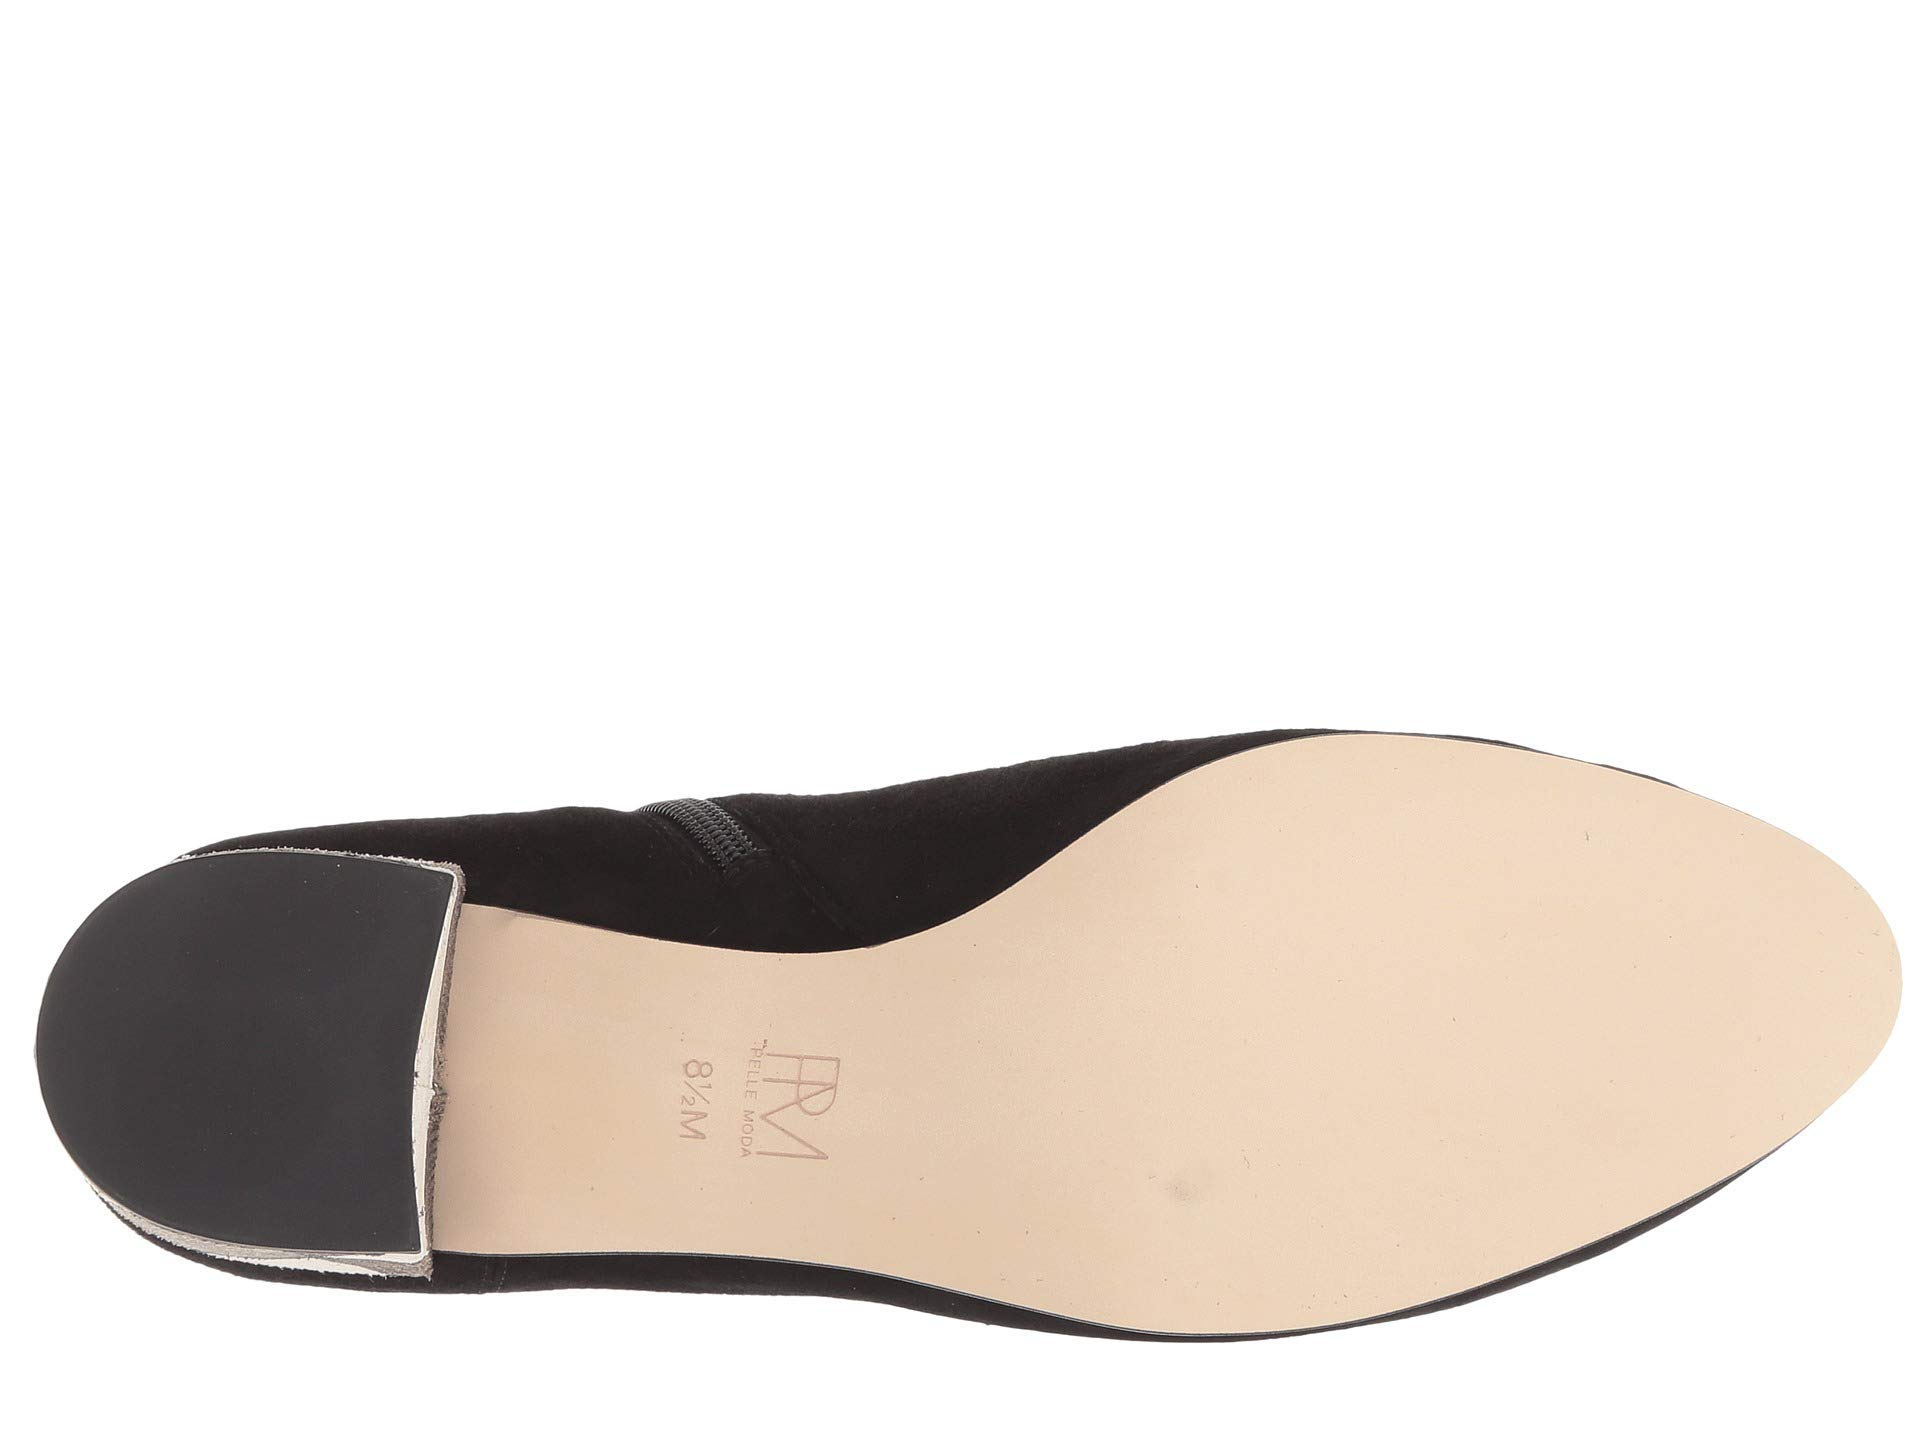other: (1172, 836, 1725, 1159), (104, 920, 373, 1187)
